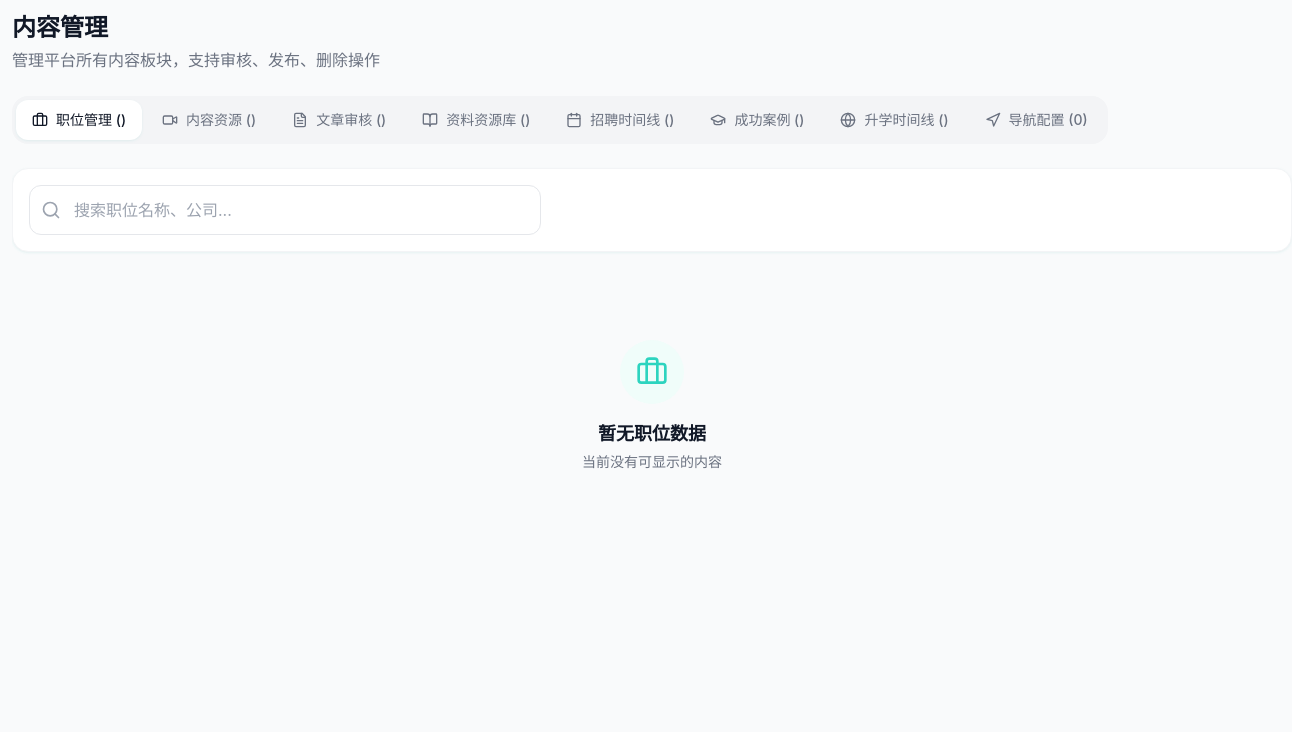
Test: AdminContent - nav config tab › nav config tab empty state shows prompt
The image size is (1292, 732).
Click the button "导航配置 (0)" at (1036, 120), box [968,100,1104,140]
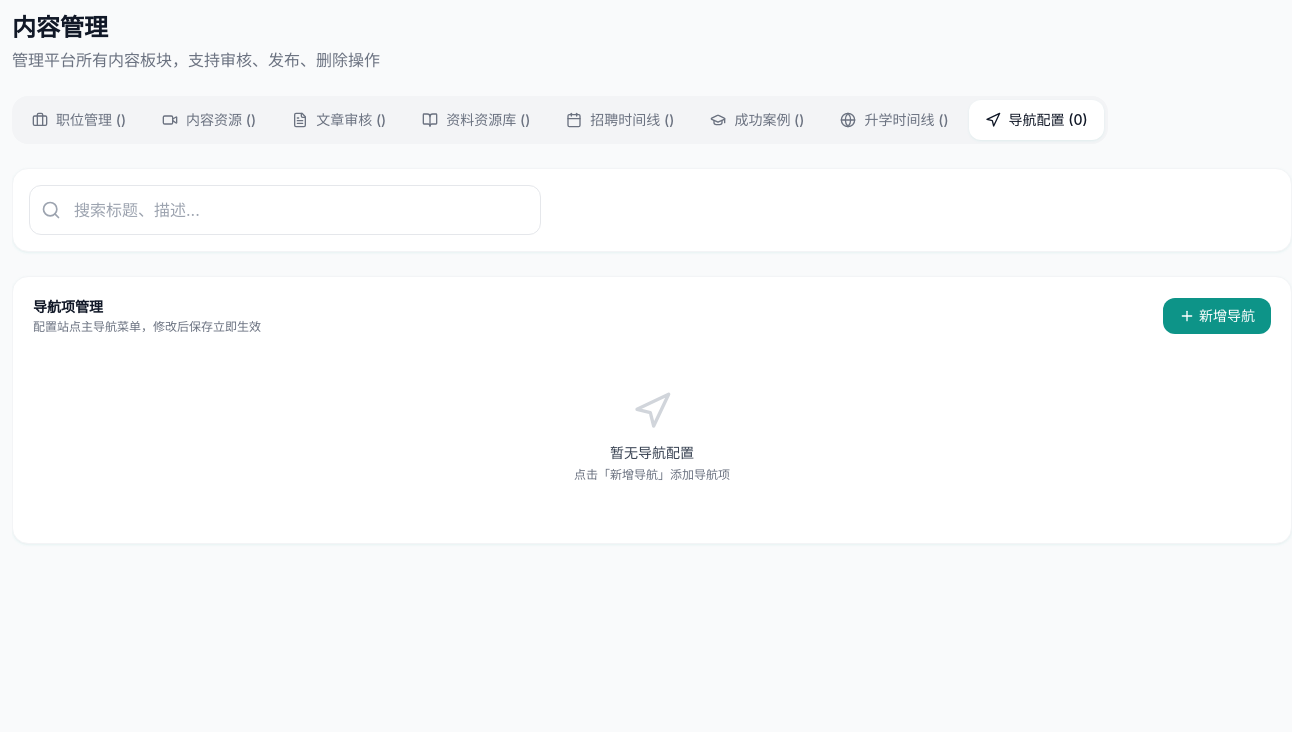
Expected: the text "暂无导航配置" is shown, [610,444,694,461]
